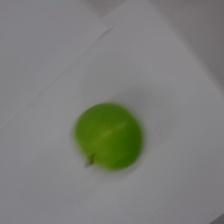green: (72, 101, 145, 174)
